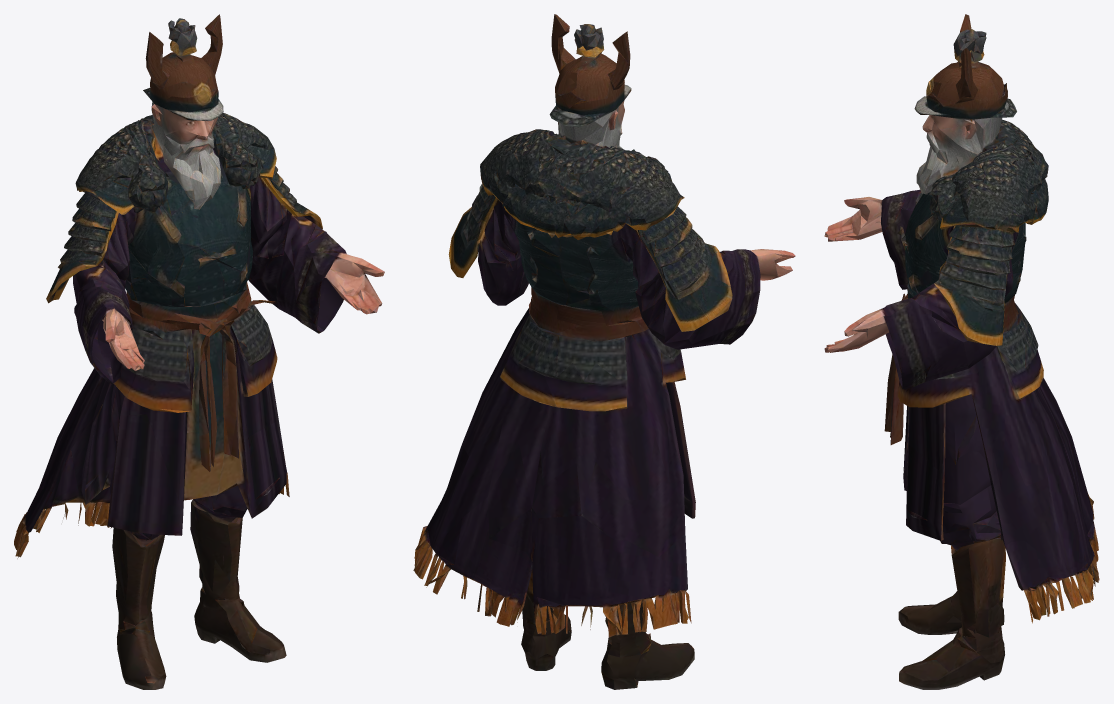
The model's file is char_X19_toa-do.glb.
3 views of the same model, side by side, from view 1: azimuth 30°, elevation 25°; view 2: azimuth 150°, elevation 25°; view 3: azimuth 270°, elevation 25° (orthographic). The views are drawn at different scales.
Size of the model in its own units: 0.8781 by 1.9 by 0.7586.
Materials: 1 (1 with a texture image).
